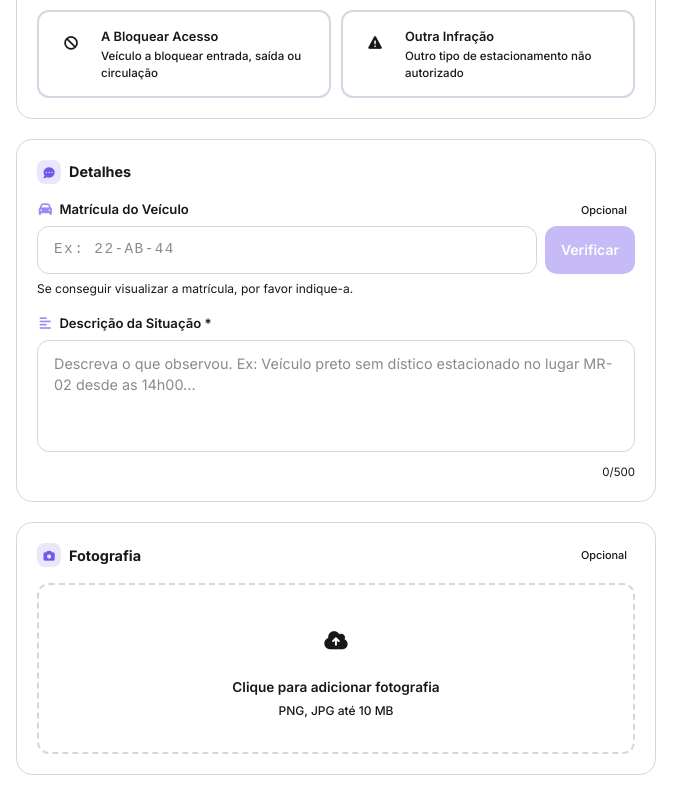
Scenario: ReportPage — Step1Form › shows error when description is too short
(page scrolled)
Replace the text in the text box with placeholder "Descreva o que observou" with "curto": (336, 396) [37,340,635,452]
(page scrolled)
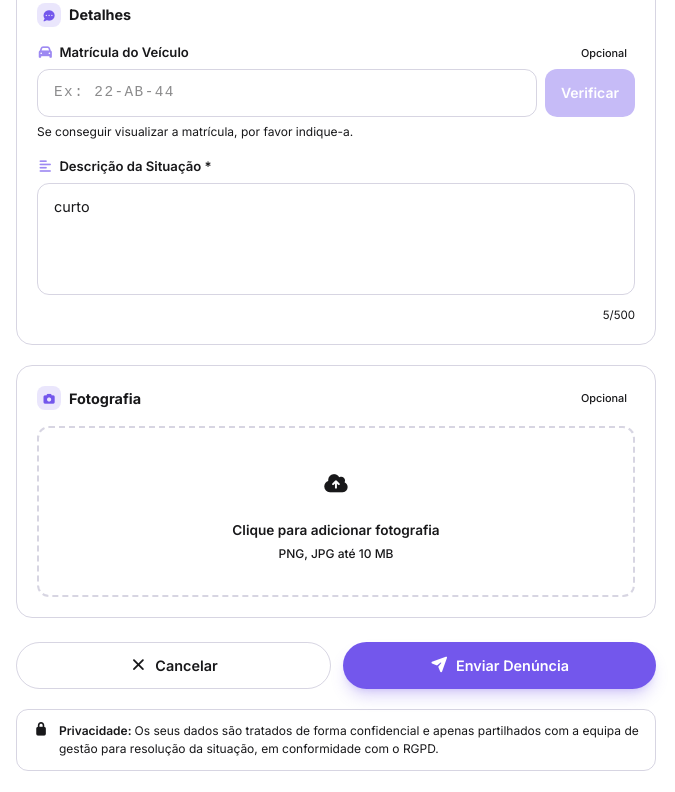
Click the button "Enviar Denúncia": (500, 666) [343,642,656,689]
(page scrolled)
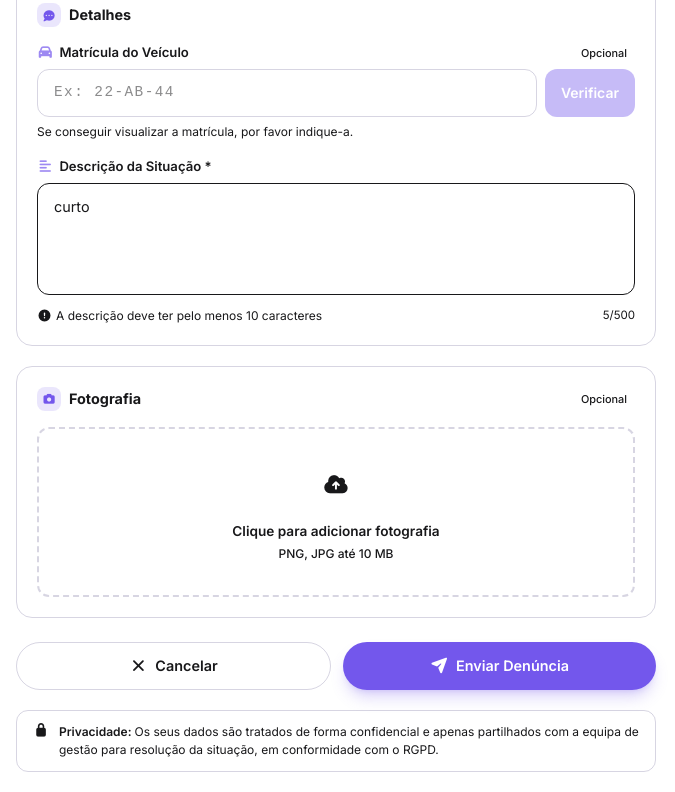
Now the text "A descrição deve ter pelo menos 10 caracteres" is shown, box [37,307,322,325]
